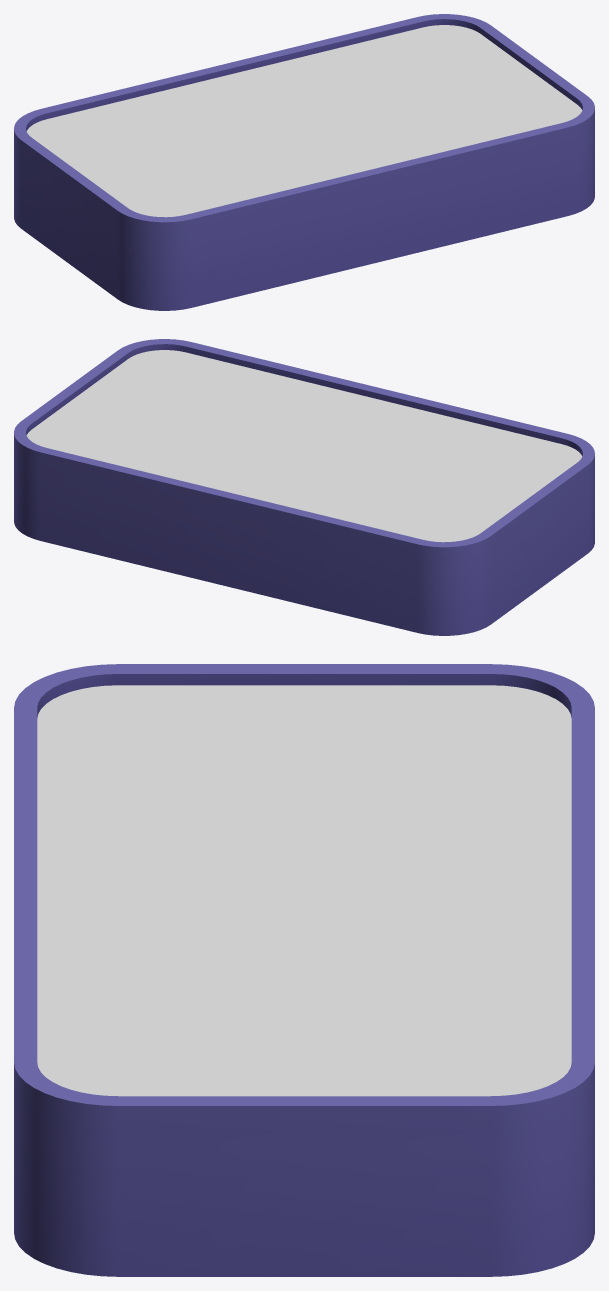
The model's file is Table.FBX.
3 renders of one model, top to bottom at view 1: azimuth 30°, elevation 25°; view 2: azimuth 150°, elevation 25°; view 3: azimuth 270°, elevation 25°, orthographic. The views are drawn at different scales.
Visible parts, largest first — view 1: Table 2; view 2: Table 2; view 3: Table 2.
Part boxes in pixels (left/top/right/bottom): Table 2: left=14, top=14, right=594, bottom=310; Table 2: left=14, top=339, right=594, bottom=635; Table 2: left=14, top=664, right=594, bottom=1276.
Size of the model in its own units: 4.94 by 0.8917 by 2.75.
